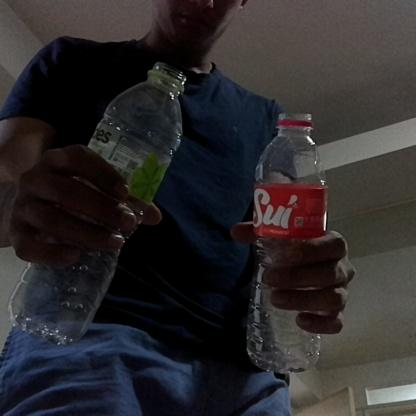plastic_bottles: (11, 58, 186, 346), (247, 112, 328, 376)
